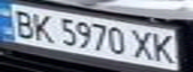0: (106, 24, 130, 56)
5: (54, 16, 78, 47)
7: (90, 21, 109, 52)
9: (72, 19, 93, 51)
B: (6, 7, 39, 39)
K: (148, 30, 181, 65), (27, 11, 57, 43)
X: (127, 28, 157, 62)
